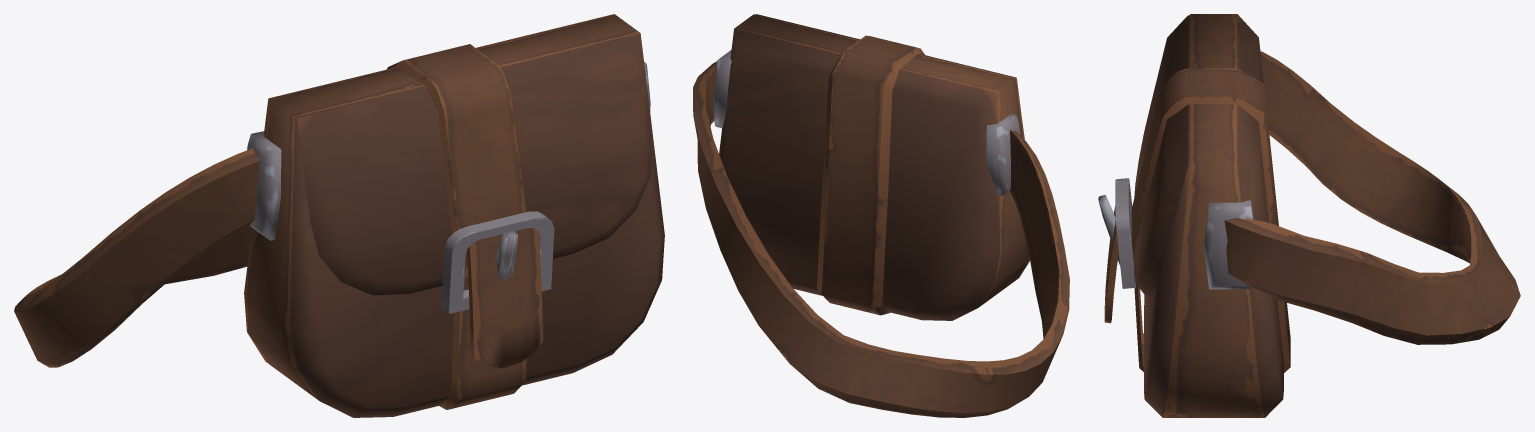
Rendered from Pouch_Small.fbx.
3 renders of one model, left to right at view 1: azimuth 30°, elevation 25°; view 2: azimuth 150°, elevation 25°; view 3: azimuth 270°, elevation 25°, orthographic. The views are drawn at different scales.
Parts seen in each view (by area): view 1: Pouch_Small; view 2: Pouch_Small; view 3: Pouch_Small.
Boxes of the visible parts, left/top/right/bottom form: Pouch_Small: left=14, top=14, right=664, bottom=417; Pouch_Small: left=693, top=14, right=1069, bottom=417; Pouch_Small: left=1098, top=14, right=1520, bottom=417.
Bounding box in the file's own units: 22.34 × 12.64 × 16.74.
